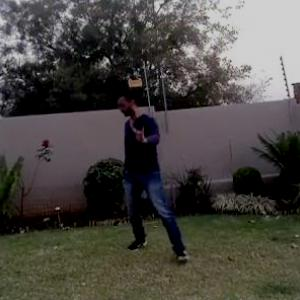takeoff-hand: (128, 117, 154, 149)
